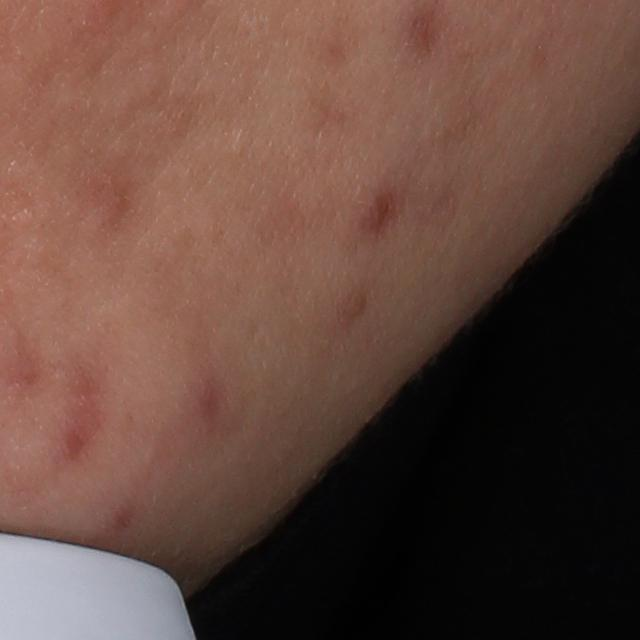papule: (357, 192, 392, 233)
